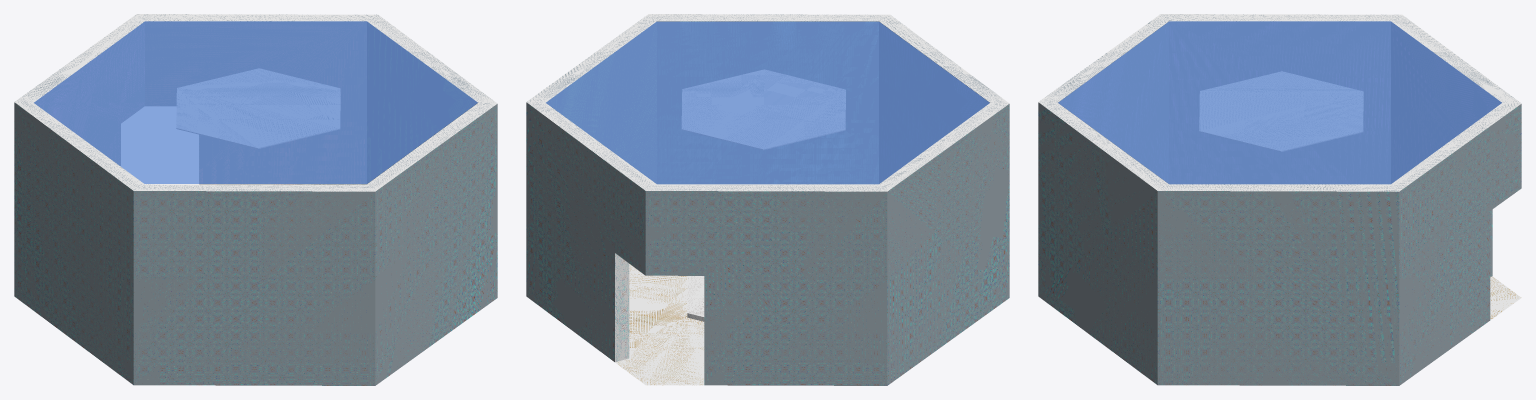
Rendered from HexRoomMosaicA.glb.
The picture shows the model from 3 angles, left to right: view 1: azimuth 30°, elevation 25°; view 2: azimuth 150°, elevation 25°; view 3: azimuth 270°, elevation 25°; orthographic projection.
Visible parts, largest first — view 1: SketchUp.001.5, SketchUp.015.19, SketchUp.012.16, SketchUp.3, SketchUp.014.18, SketchUp.004.8, SketchUp.009.13; view 2: SketchUp.001.5, SketchUp.015.19, SketchUp.003.7, SketchUp.3, SketchUp.014.18, SketchUp.002.6, SketchUp.004.8, SketchUp.010.14, SketchUp.007.11; view 3: SketchUp.001.5, SketchUp.015.19, SketchUp.005.9, SketchUp.3, SketchUp.014.18, SketchUp.002.6, SketchUp.009.13, SketchUp.010.14.
Part boxes in pixels (x1,y1,x2,y2): SketchUp.001.5: (14, 102, 497, 385); SketchUp.015.19: (34, 21, 477, 183); SketchUp.012.16: (145, 21, 366, 184); SketchUp.3: (14, 14, 497, 191); SketchUp.014.18: (176, 68, 340, 148); SketchUp.004.8: (367, 22, 477, 183); SketchUp.009.13: (34, 22, 144, 165); SketchUp.001.5: (526, 102, 1009, 385); SketchUp.015.19: (546, 21, 989, 184); SketchUp.003.7: (657, 21, 878, 183); SketchUp.3: (526, 14, 1009, 191); SketchUp.014.18: (682, 69, 845, 149); SketchUp.002.6: (879, 21, 989, 183); SketchUp.004.8: (546, 21, 656, 183); SketchUp.010.14: (615, 264, 704, 385); SketchUp.007.11: (687, 276, 704, 316); SketchUp.001.5: (1038, 102, 1521, 385); SketchUp.015.19: (1058, 21, 1501, 184); SketchUp.005.9: (1169, 21, 1390, 183); SketchUp.3: (1038, 14, 1521, 191); SketchUp.014.18: (1199, 71, 1363, 151); SketchUp.002.6: (1058, 21, 1168, 183); SketchUp.009.13: (1391, 22, 1501, 183); SketchUp.010.14: (1490, 276, 1521, 319).
Bounding box in the file's own units: 698 × 356 × 803.
34 materials, 4 textured.
